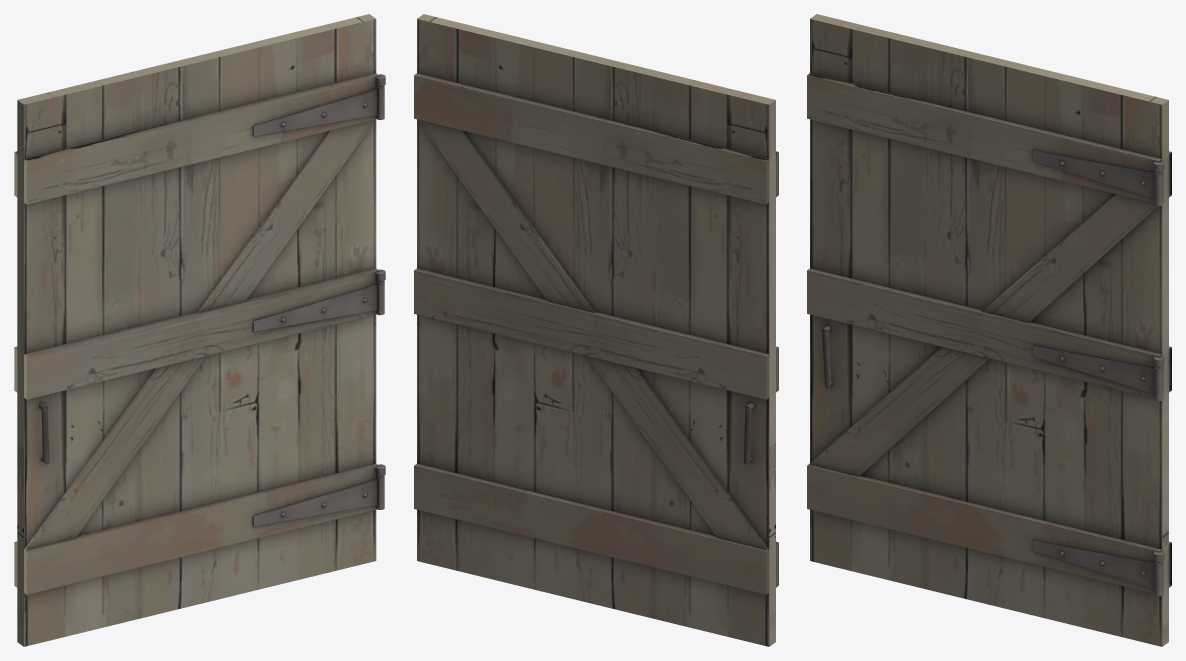
The picture shows the model from 3 angles, left to right: view 1: azimuth 30°, elevation 25°; view 2: azimuth 150°, elevation 25°; view 3: azimuth 330°, elevation 25°; orthographic projection.
Parts seen in each view (by area): view 1: body0_model0_lod0_mesh0, body0_model0_lod0_mesh1; view 2: body0_model0_lod0_mesh1, body0_model0_lod0_mesh0; view 3: body0_model0_lod0_mesh0, body0_model0_lod0_mesh1.
Boxes of the visible parts, left/top/right/bottom form: body0_model0_lod0_mesh0: left=20, top=16, right=385, bottom=646; body0_model0_lod0_mesh1: left=14, top=14, right=372, bottom=644; body0_model0_lod0_mesh1: left=414, top=16, right=772, bottom=646; body0_model0_lod0_mesh0: left=420, top=14, right=778, bottom=643; body0_model0_lod0_mesh0: left=807, top=16, right=1165, bottom=646; body0_model0_lod0_mesh1: left=813, top=14, right=1171, bottom=643.
Bounding box in the file's own units: 138 × 200 × 11.81.
2 materials, 2 textured.
